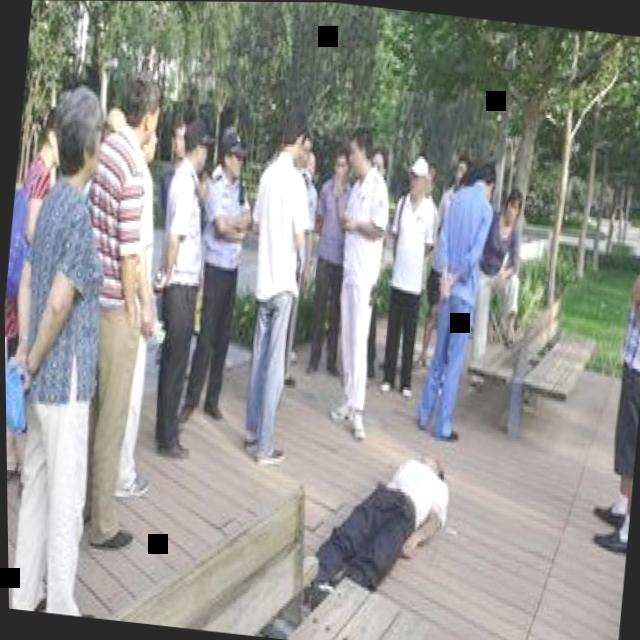Fall-Detected: (290, 418, 463, 610)
